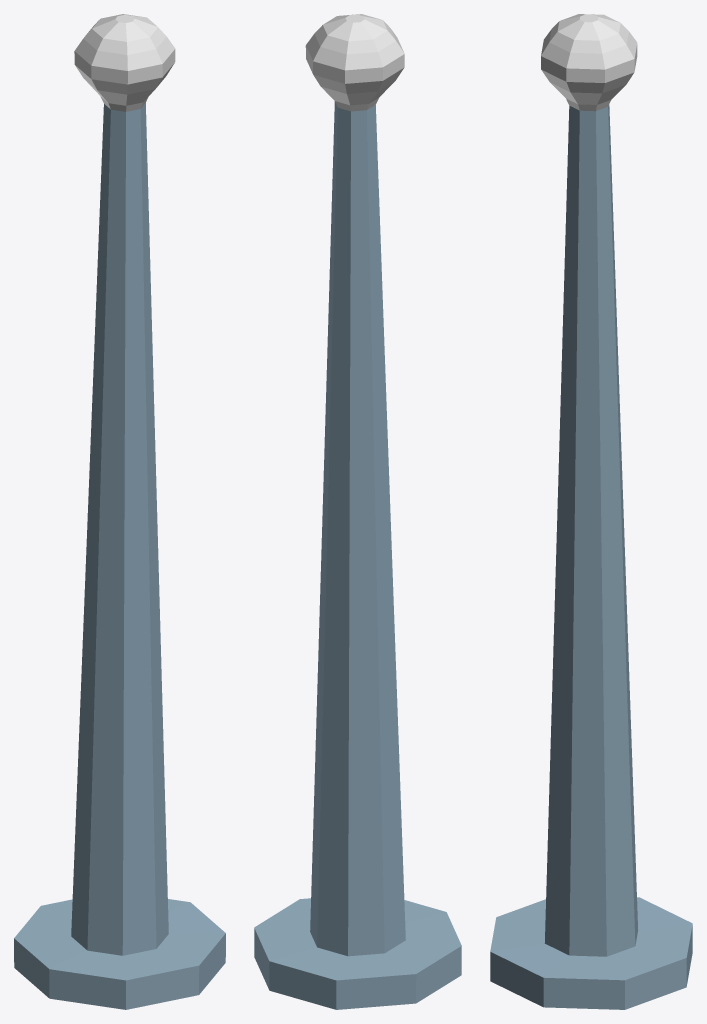
Rendered from Antenna.fbx.
3 renders of one model, left to right at view 1: azimuth 30°, elevation 25°; view 2: azimuth 150°, elevation 25°; view 3: azimuth 270°, elevation 25°, orthographic.
Parts seen in each view (by area): view 1: Antenna; view 2: Antenna; view 3: Antenna.
Boxes of the visible parts, x1,y1,x2,y2 form: Antenna: (14, 14, 225, 1009); Antenna: (254, 14, 461, 1009); Antenna: (490, 14, 692, 1009).
Bounding box in the file's own units: 7.32 × 37.9 × 7.32.
